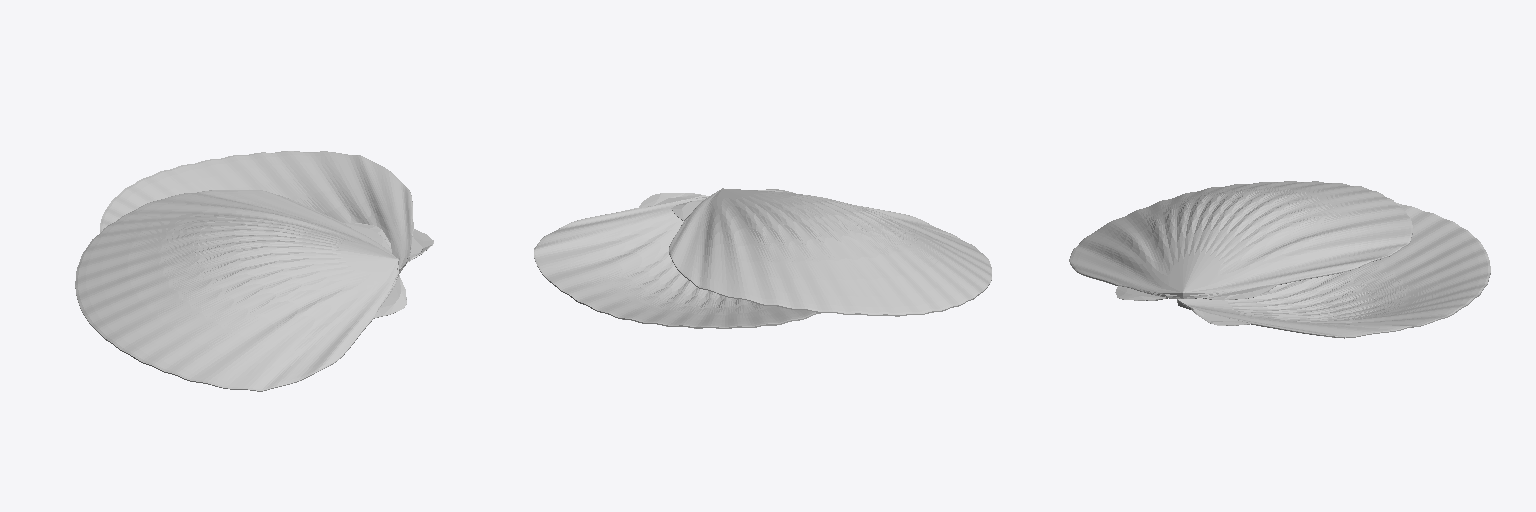
File: seashell.obj
3 views of the same model, side by side, from view 1: azimuth 30°, elevation 25°; view 2: azimuth 150°, elevation 25°; view 3: azimuth 270°, elevation 25° (orthographic).
Parts seen in each view (by area): view 1: Mesh; view 2: Mesh; view 3: Mesh.
Boxes of the visible parts, x1,y1,x2,y2 form: Mesh: [75, 151, 433, 391]; Mesh: [534, 188, 991, 328]; Mesh: [1069, 181, 1490, 338].
Bounding box in the file's own units: 103 × 20.88 × 105.